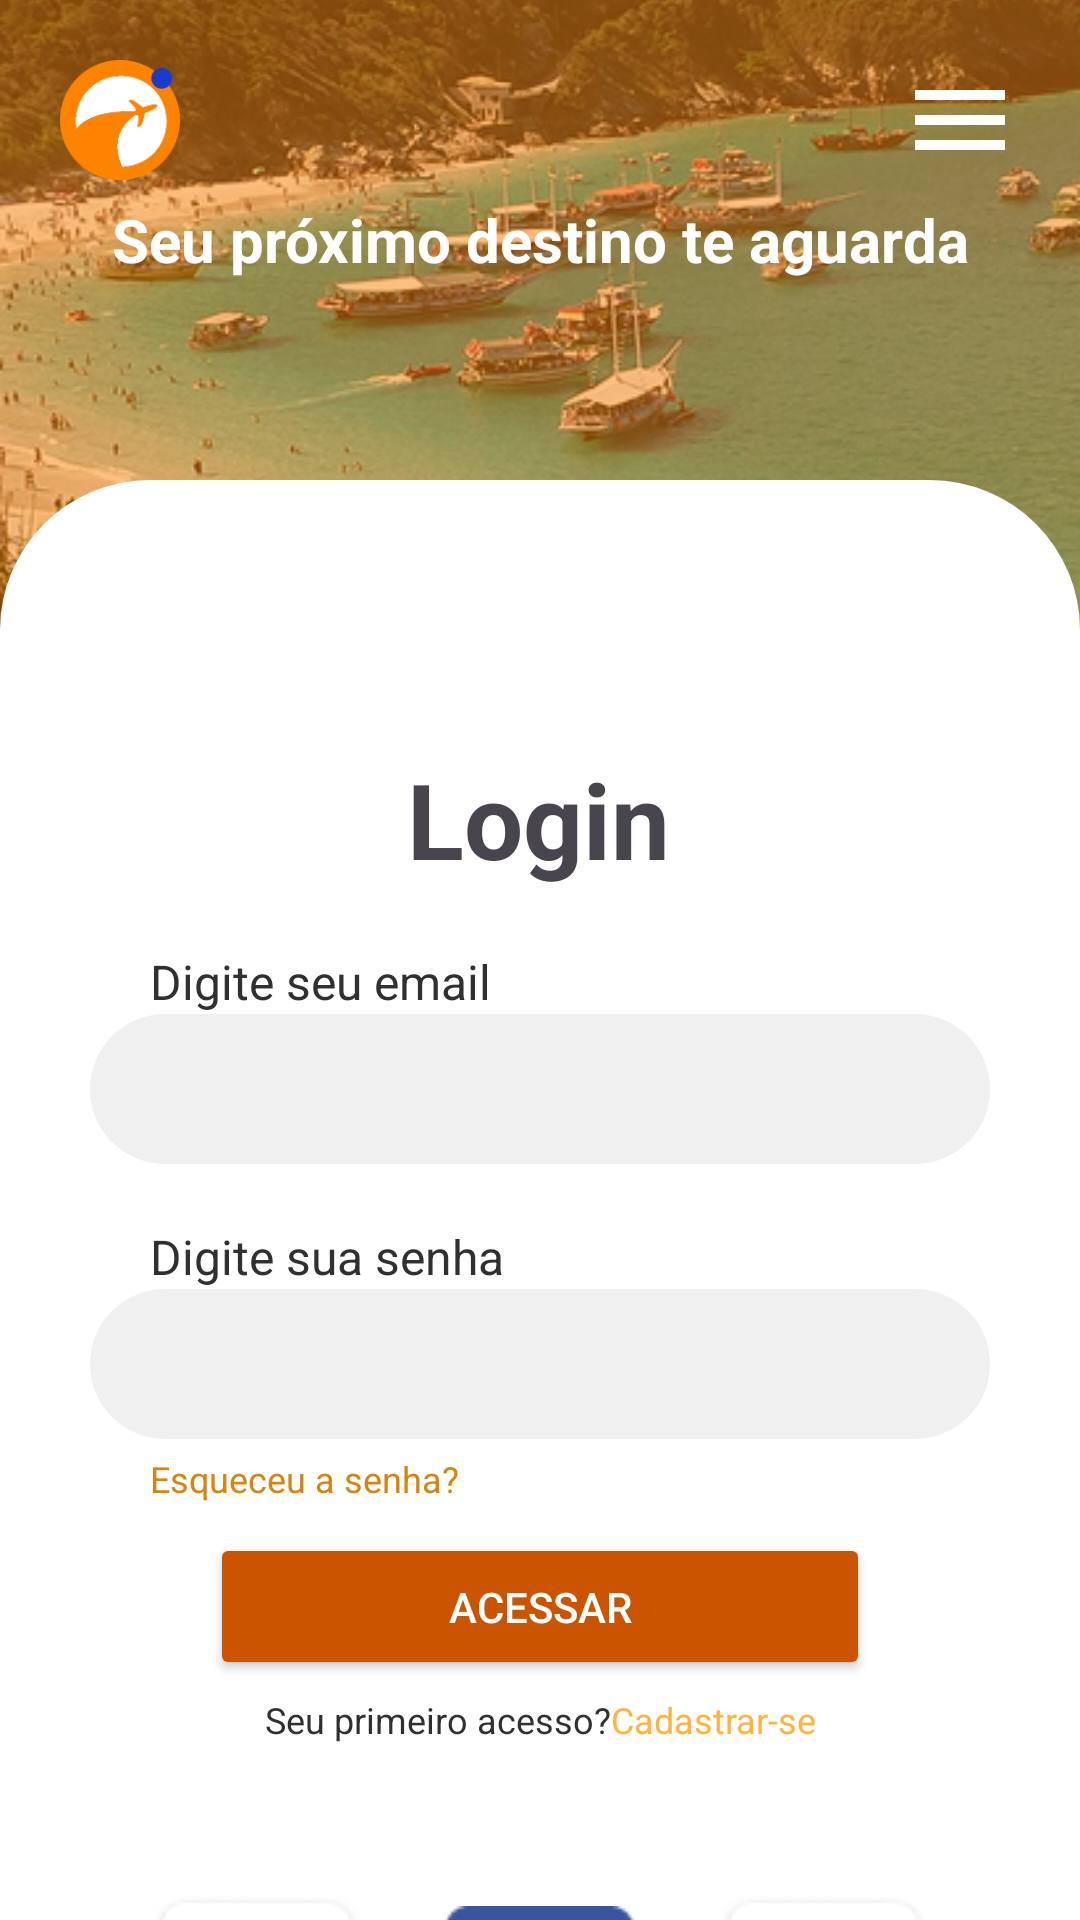

Icon click points for this 1080×1920 phone screenshot, format point (x, y):
hamburger menu: point (960, 120)
